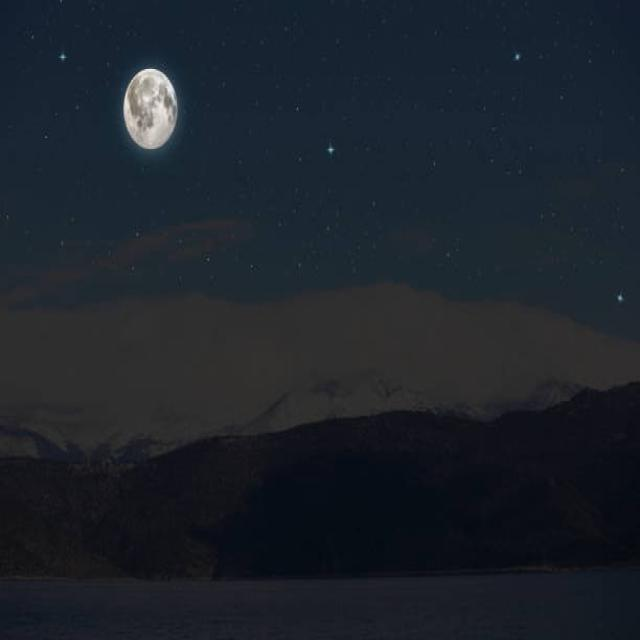moon: (122, 66, 180, 152)
